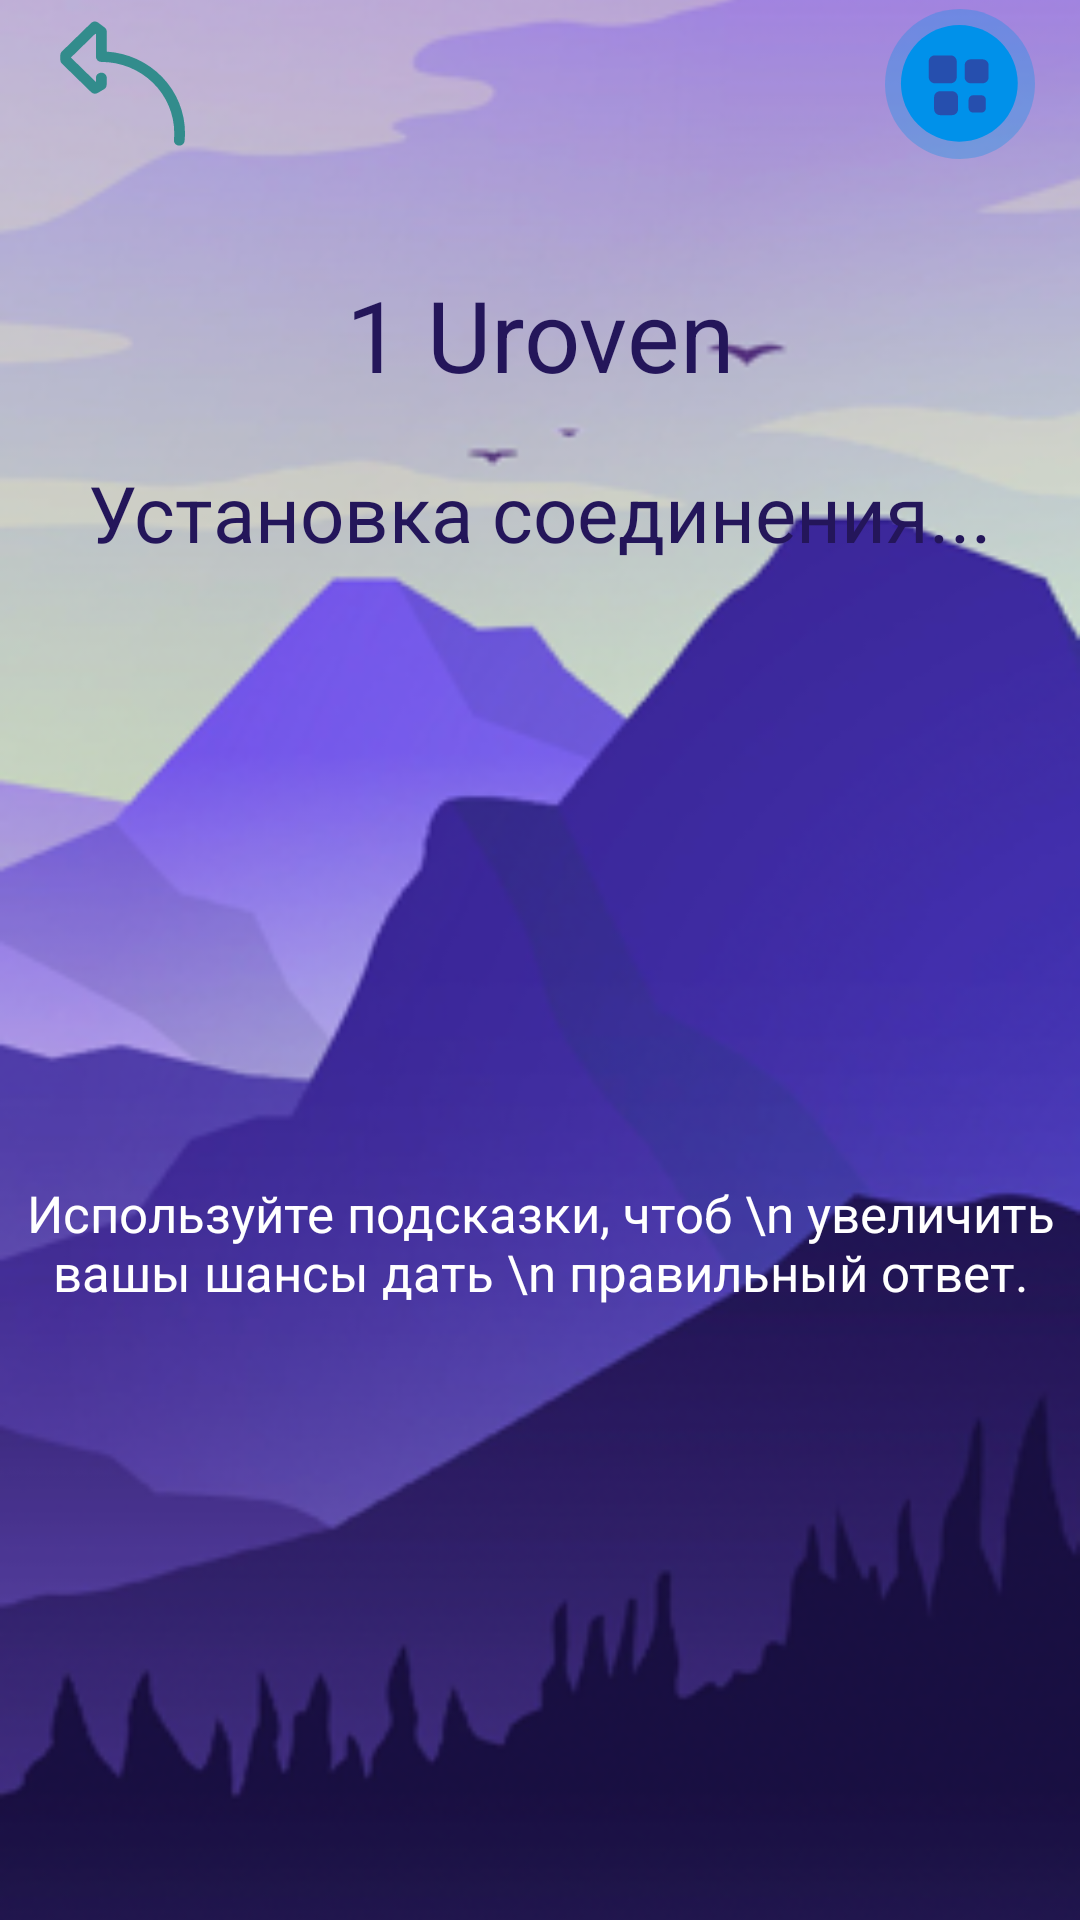

Icons on this 1080x1920 Android screen, each with the point to tap as (x=x, y=y):
back: (x=122, y=83)
menu: (x=960, y=84)
